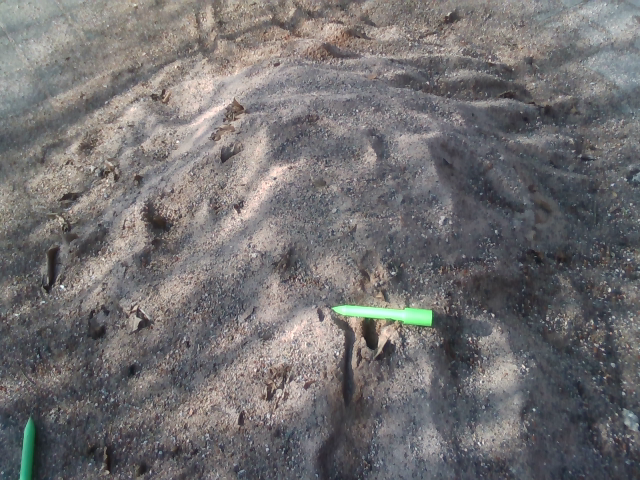Probe: (323, 295, 446, 330), (9, 405, 43, 480)
